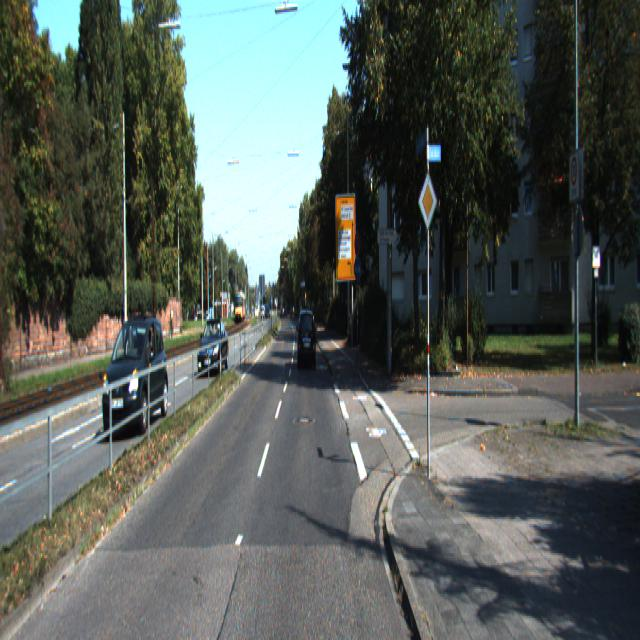Car: (104, 316, 170, 442), (197, 317, 229, 376), (298, 309, 317, 370)
